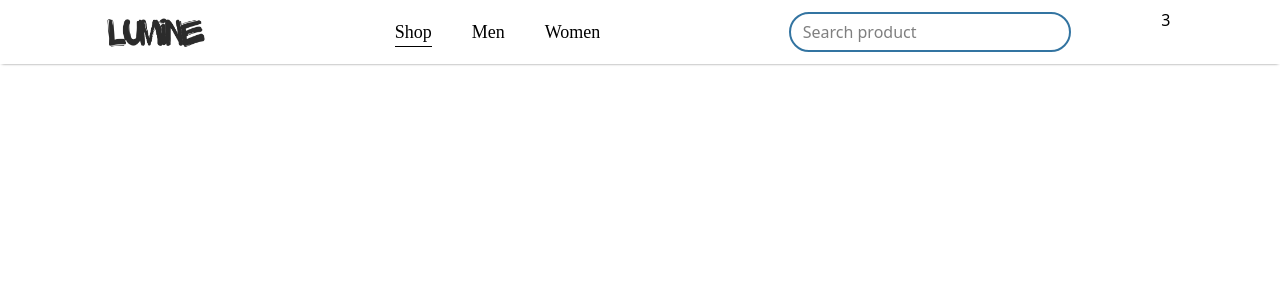
Navbar Search › typing "prod" should provide filtered list items containing "prod" with max 5 results
Type "prod" into the search field with placeholder "Search product" at (930, 32), box [799,14,1061,50]
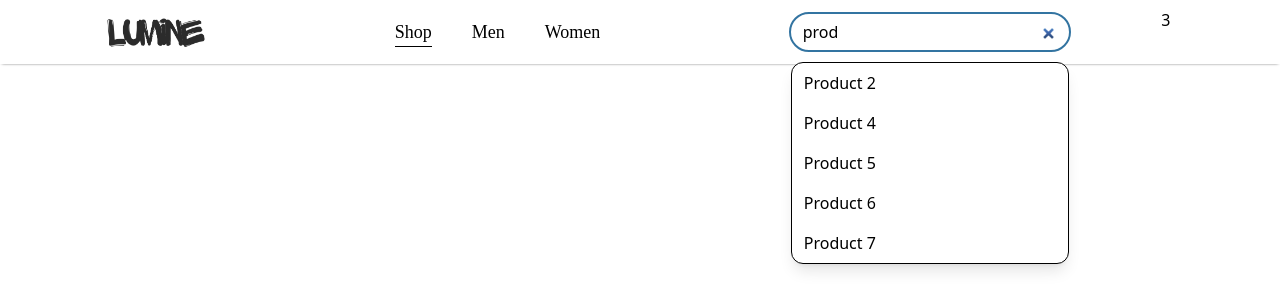
Result: the text "Product 2" is shown 5 times at [804,72,876,94]; [804,112,876,134]; [804,152,876,174]; [804,192,876,214]; [804,232,876,254]
Result: the text "Product 2" is shown at [804,72,876,94]
Result: the text "Product 7" is shown at [804,232,876,254]
